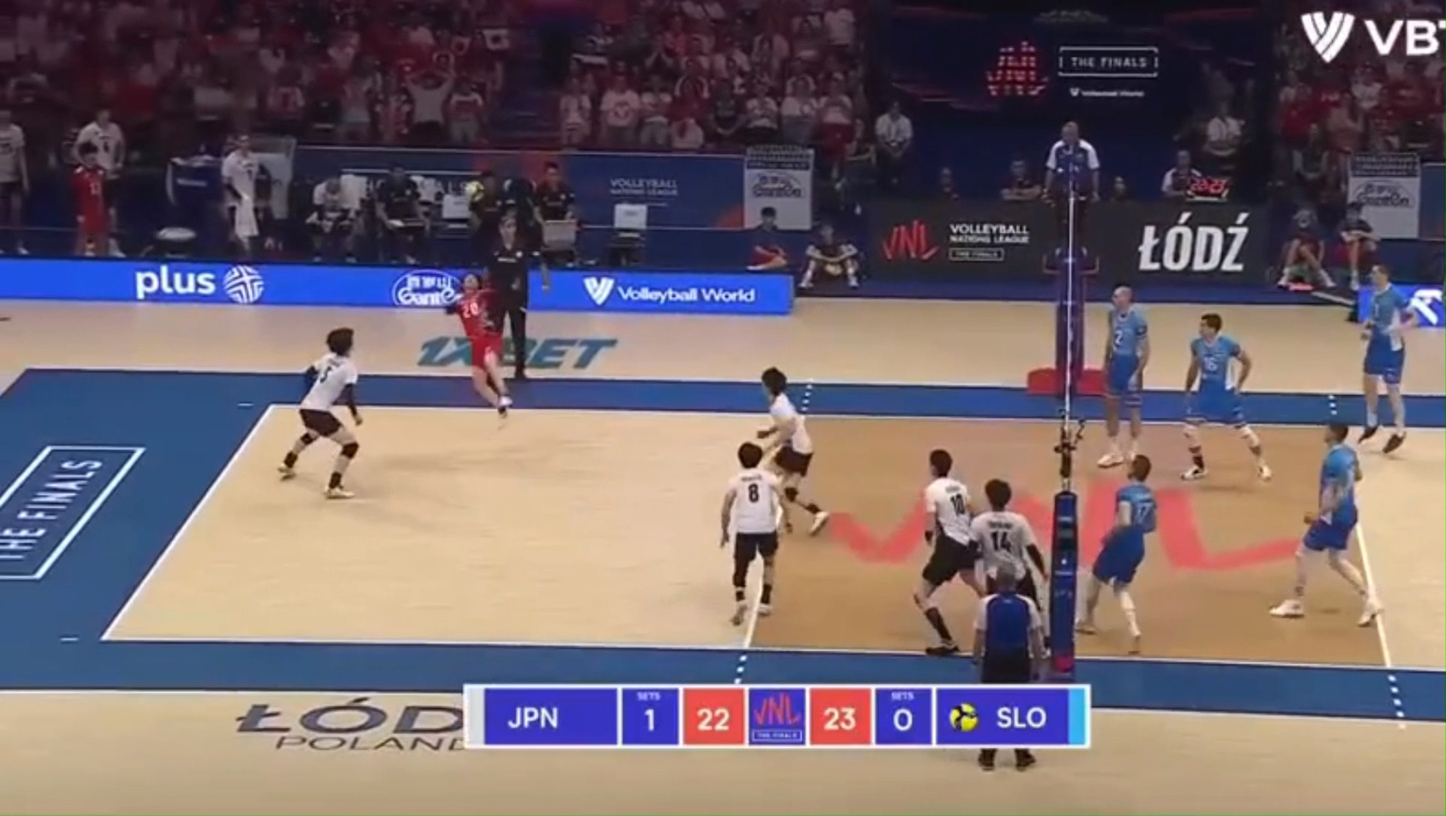ball: (463, 181, 482, 198)
player: (1270, 422, 1381, 626), (1075, 455, 1157, 653), (1181, 313, 1271, 481), (1359, 264, 1415, 453), (1097, 286, 1150, 468)
player 1: (913, 449, 985, 656), (280, 328, 361, 498), (755, 366, 830, 534), (720, 442, 782, 625), (969, 478, 1047, 614), (449, 273, 511, 418)
referee: (1044, 122, 1099, 274), (487, 215, 537, 346), (513, 353, 527, 379)
